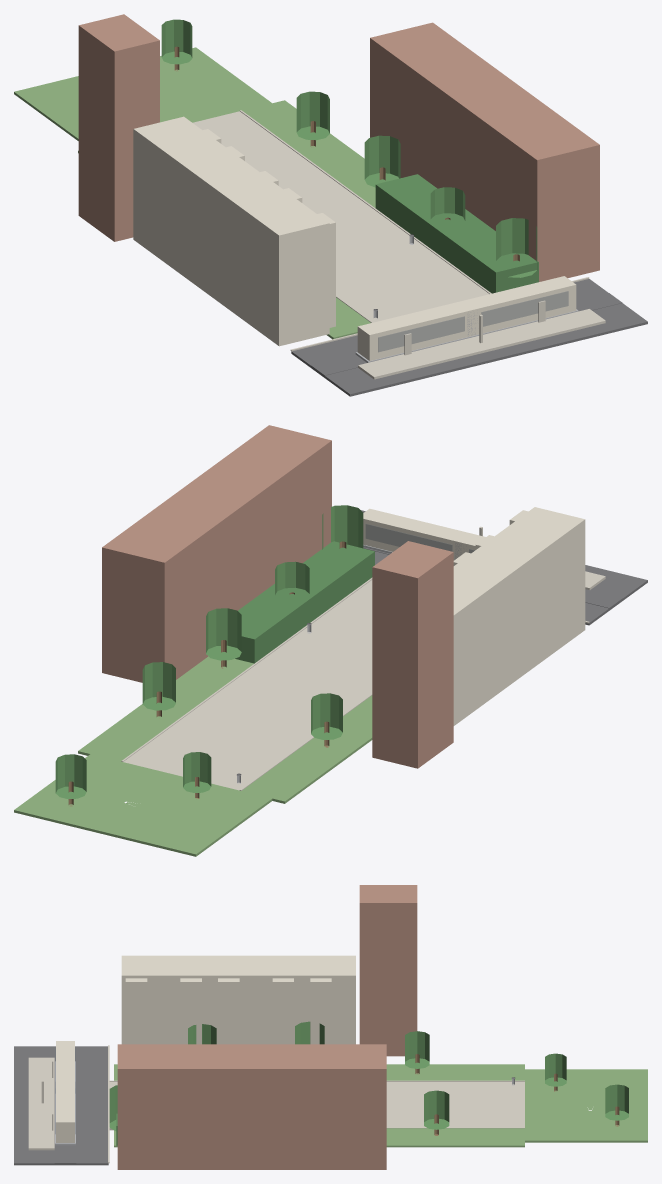
File: main_walk.glb
3 renders of one model, top to bottom at view 1: azimuth 30°, elevation 25°; view 2: azimuth 150°, elevation 25°; view 3: azimuth 270°, elevation 25°, orthographic. The views are drawn at different scales.
Parts seen in each view (by area): view 1: LawLibrary, BrickHall, Pavement, Green, Tram, Hedge_Mall, Road, Platform, Tree_04, Tree_06, Tree_09, Tree_08 (+2 smaller); view 2: LawLibrary, BrickHall, Green, Pavement, Hedge_Mall, Tram, Road, Tree_04, Tree_06, Tree_05, Tree_08, Tree_09 (+3 smaller); view 3: BrickHall, LawLibrary, Green, Road, Pavement, Platform, Tram, Tree_06, Tree_05, Tree_08, Tree_07, Tree_03 (+1 smaller).
Part boxes in pixels (left/top/right/bottom): LawLibrary: left=78, top=14, right=335, bottom=346; BrickHall: left=370, top=22, right=599, bottom=281; Pavement: left=192, top=111, right=489, bottom=322; Green: left=14, top=47, right=375, bottom=339; Tram: left=355, top=276, right=578, bottom=362; Hedge_Mall: left=375, top=174, right=538, bottom=293; Road: left=291, top=279, right=647, bottom=396; Platform: left=358, top=300, right=605, bottom=379; Tree_04: left=364, top=135, right=400, bottom=187; Tree_06: left=296, top=91, right=329, bottom=147; Tree_09: left=496, top=218, right=537, bottom=277; Tree_08: left=161, top=19, right=192, bottom=71; LawLibrary: left=372, top=507, right=585, bottom=768; BrickHall: left=102, top=425, right=331, bottom=682; Green: left=14, top=656, right=372, bottom=856; Pavement: left=123, top=580, right=372, bottom=790; Hedge_Mall: left=235, top=541, right=374, bottom=663; Tram: left=363, top=508, right=485, bottom=560; Road: left=361, top=510, right=647, bottom=625; Tree_04: left=206, top=608, right=241, bottom=668; Tree_06: left=142, top=662, right=175, bottom=716; Tree_05: left=311, top=693, right=342, bottom=747; Tree_08: left=55, top=754, right=86, bottom=806; Tree_09: left=322, top=505, right=363, bottom=549; BrickHall: left=117, top=1044, right=386, bottom=1169; LawLibrary: left=121, top=885, right=417, bottom=1056; Green: left=114, top=1064, right=647, bottom=1147; Road: left=14, top=1046, right=108, bottom=1165; Pavement: left=109, top=1082, right=524, bottom=1130; Platform: left=28, top=1057, right=54, bottom=1150; Tram: left=55, top=1041, right=75, bottom=1145; Tree_06: left=424, top=1090, right=449, bottom=1135; Tree_05: left=405, top=1031, right=429, bottom=1074; Tree_08: left=605, top=1084, right=628, bottom=1126; Tree_07: left=545, top=1053, right=566, bottom=1091; Tree_03: left=295, top=1021, right=324, bottom=1044.
Size of the model in its own units: 40.5 by 22.28 by 82.5.
